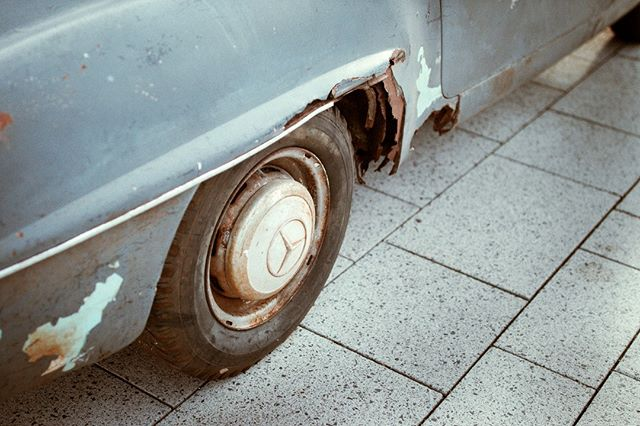car: (1, 1, 632, 383)
